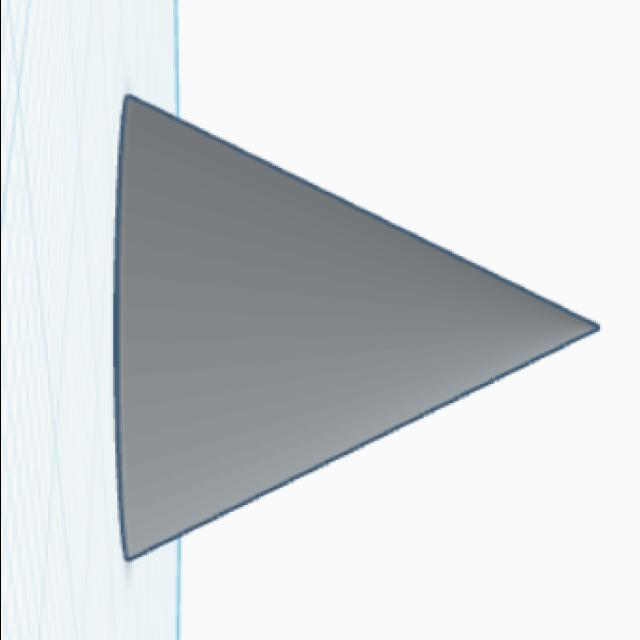cone: (108, 90, 603, 566)
